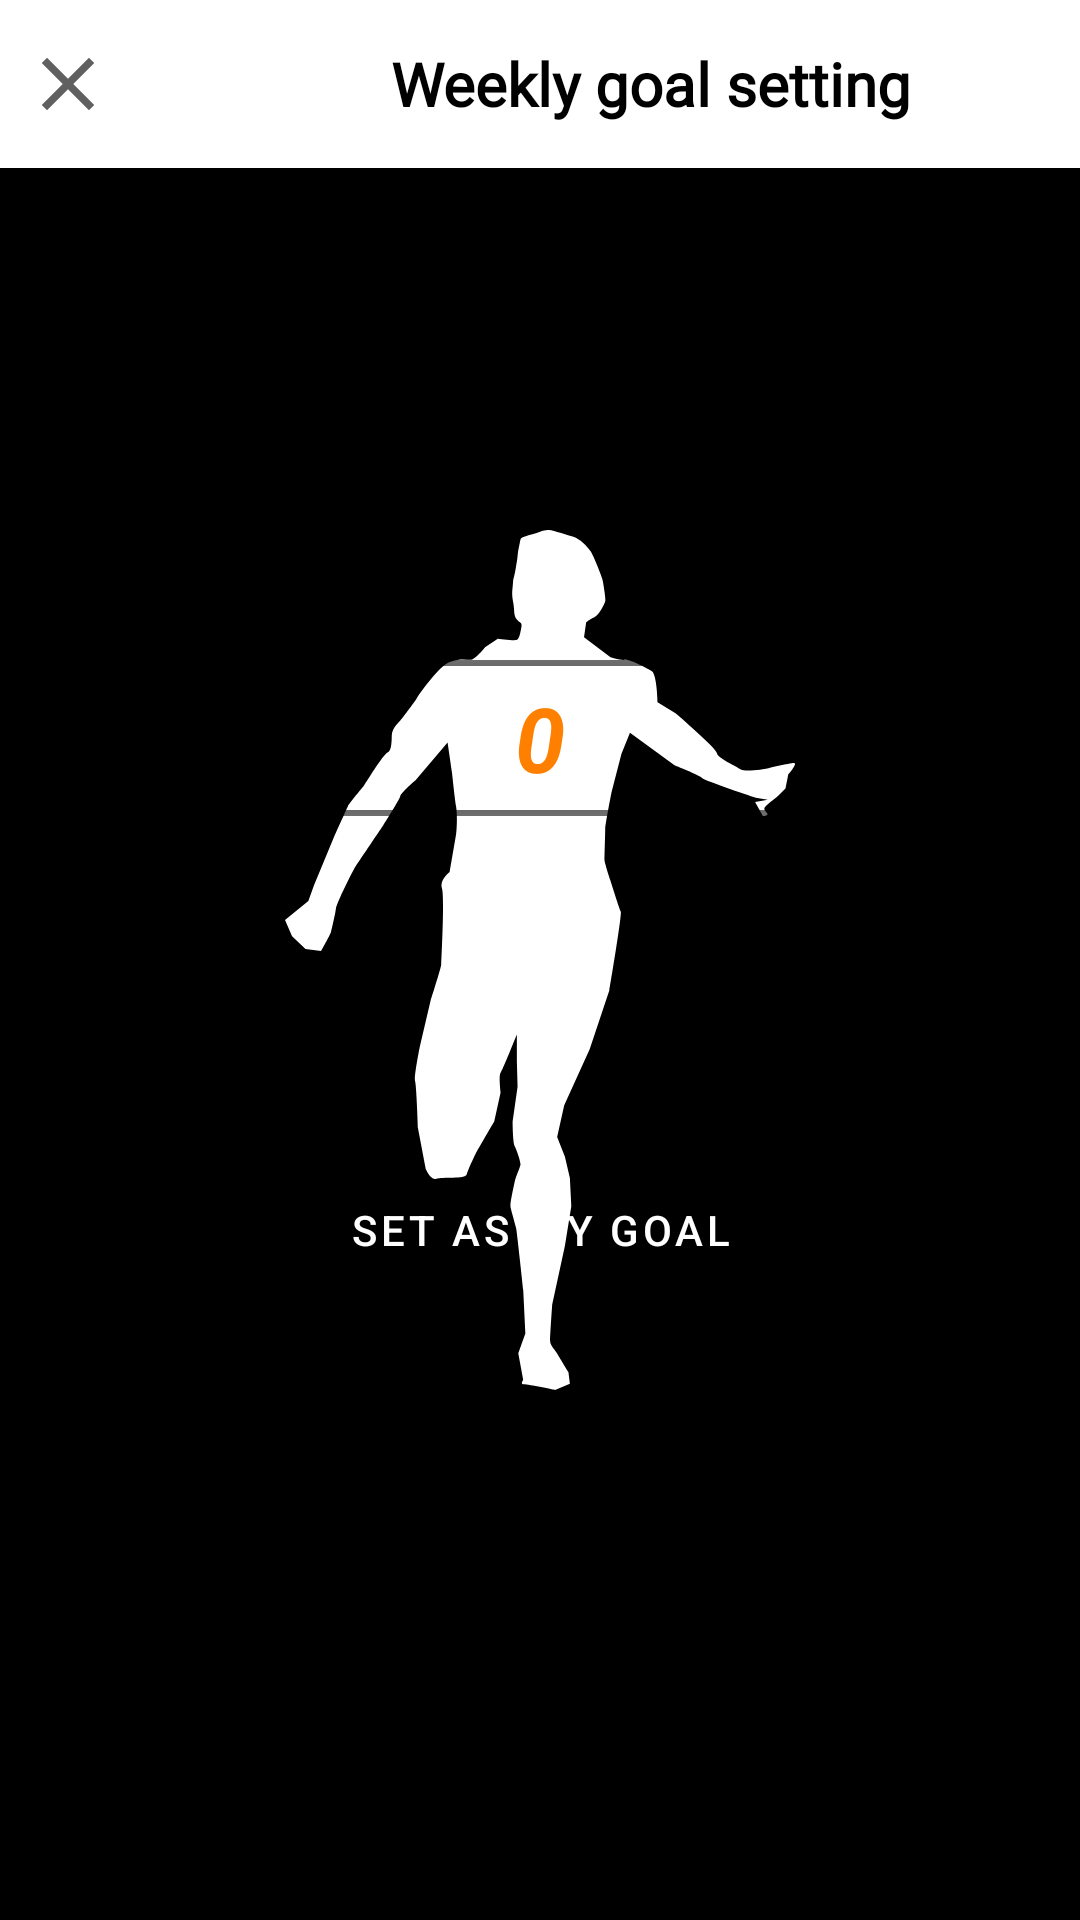

Screen size 1080x1920. Icon name, then its box in pixels as (x1, y1, x2, y2):
close: (42, 58, 94, 110)
